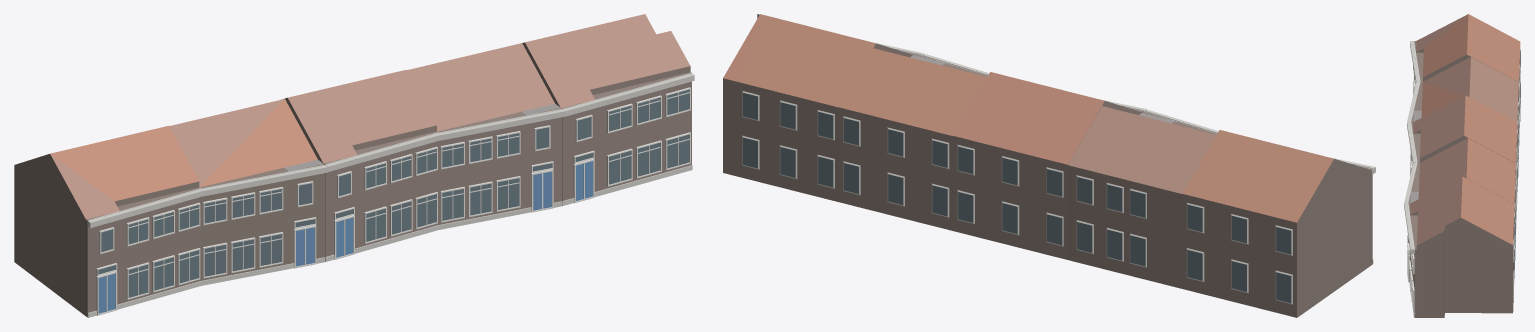
Rendered from chunk-face-vaalrivier-2-14-r1.glb.
3 renders of one model, left to right at view 1: azimuth 30°, elevation 25°; view 2: azimuth 150°, elevation 25°; view 3: azimuth 270°, elevation 25°, orthographic. The views are drawn at different scales.
Parts seen in each view (by area): view 1: face-vaalrivier-2-14-r1; view 2: face-vaalrivier-2-14-r1; view 3: face-vaalrivier-2-14-r1.
Boxes of the visible parts, x1,y1,x2,y2 form: face-vaalrivier-2-14-r1: [14, 14, 694, 317]; face-vaalrivier-2-14-r1: [723, 14, 1375, 317]; face-vaalrivier-2-14-r1: [1404, 14, 1520, 317].
Size of the model in its own units: 41.12 by 8.8 by 9.72.
